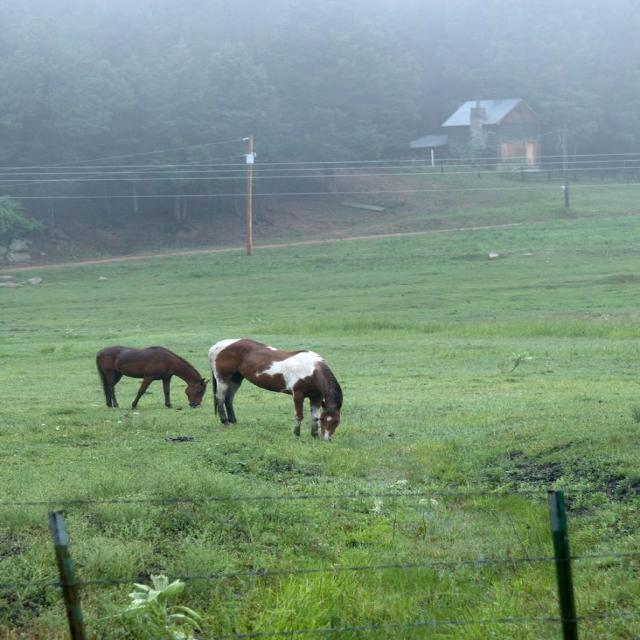Horse: (208, 339, 341, 440), (93, 345, 211, 410)
